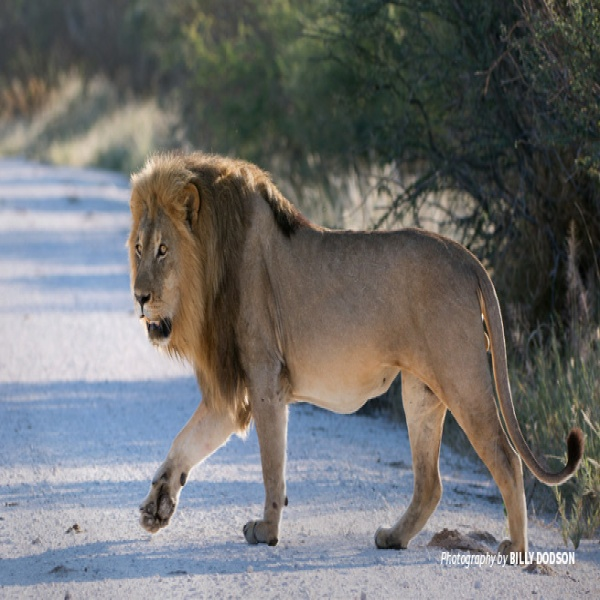Lion: (124, 147, 587, 571)
